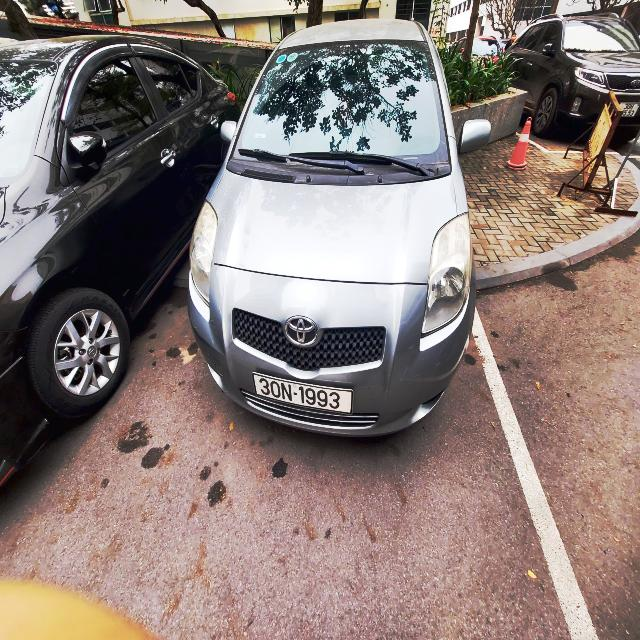license_plate: (254, 374, 353, 413)
